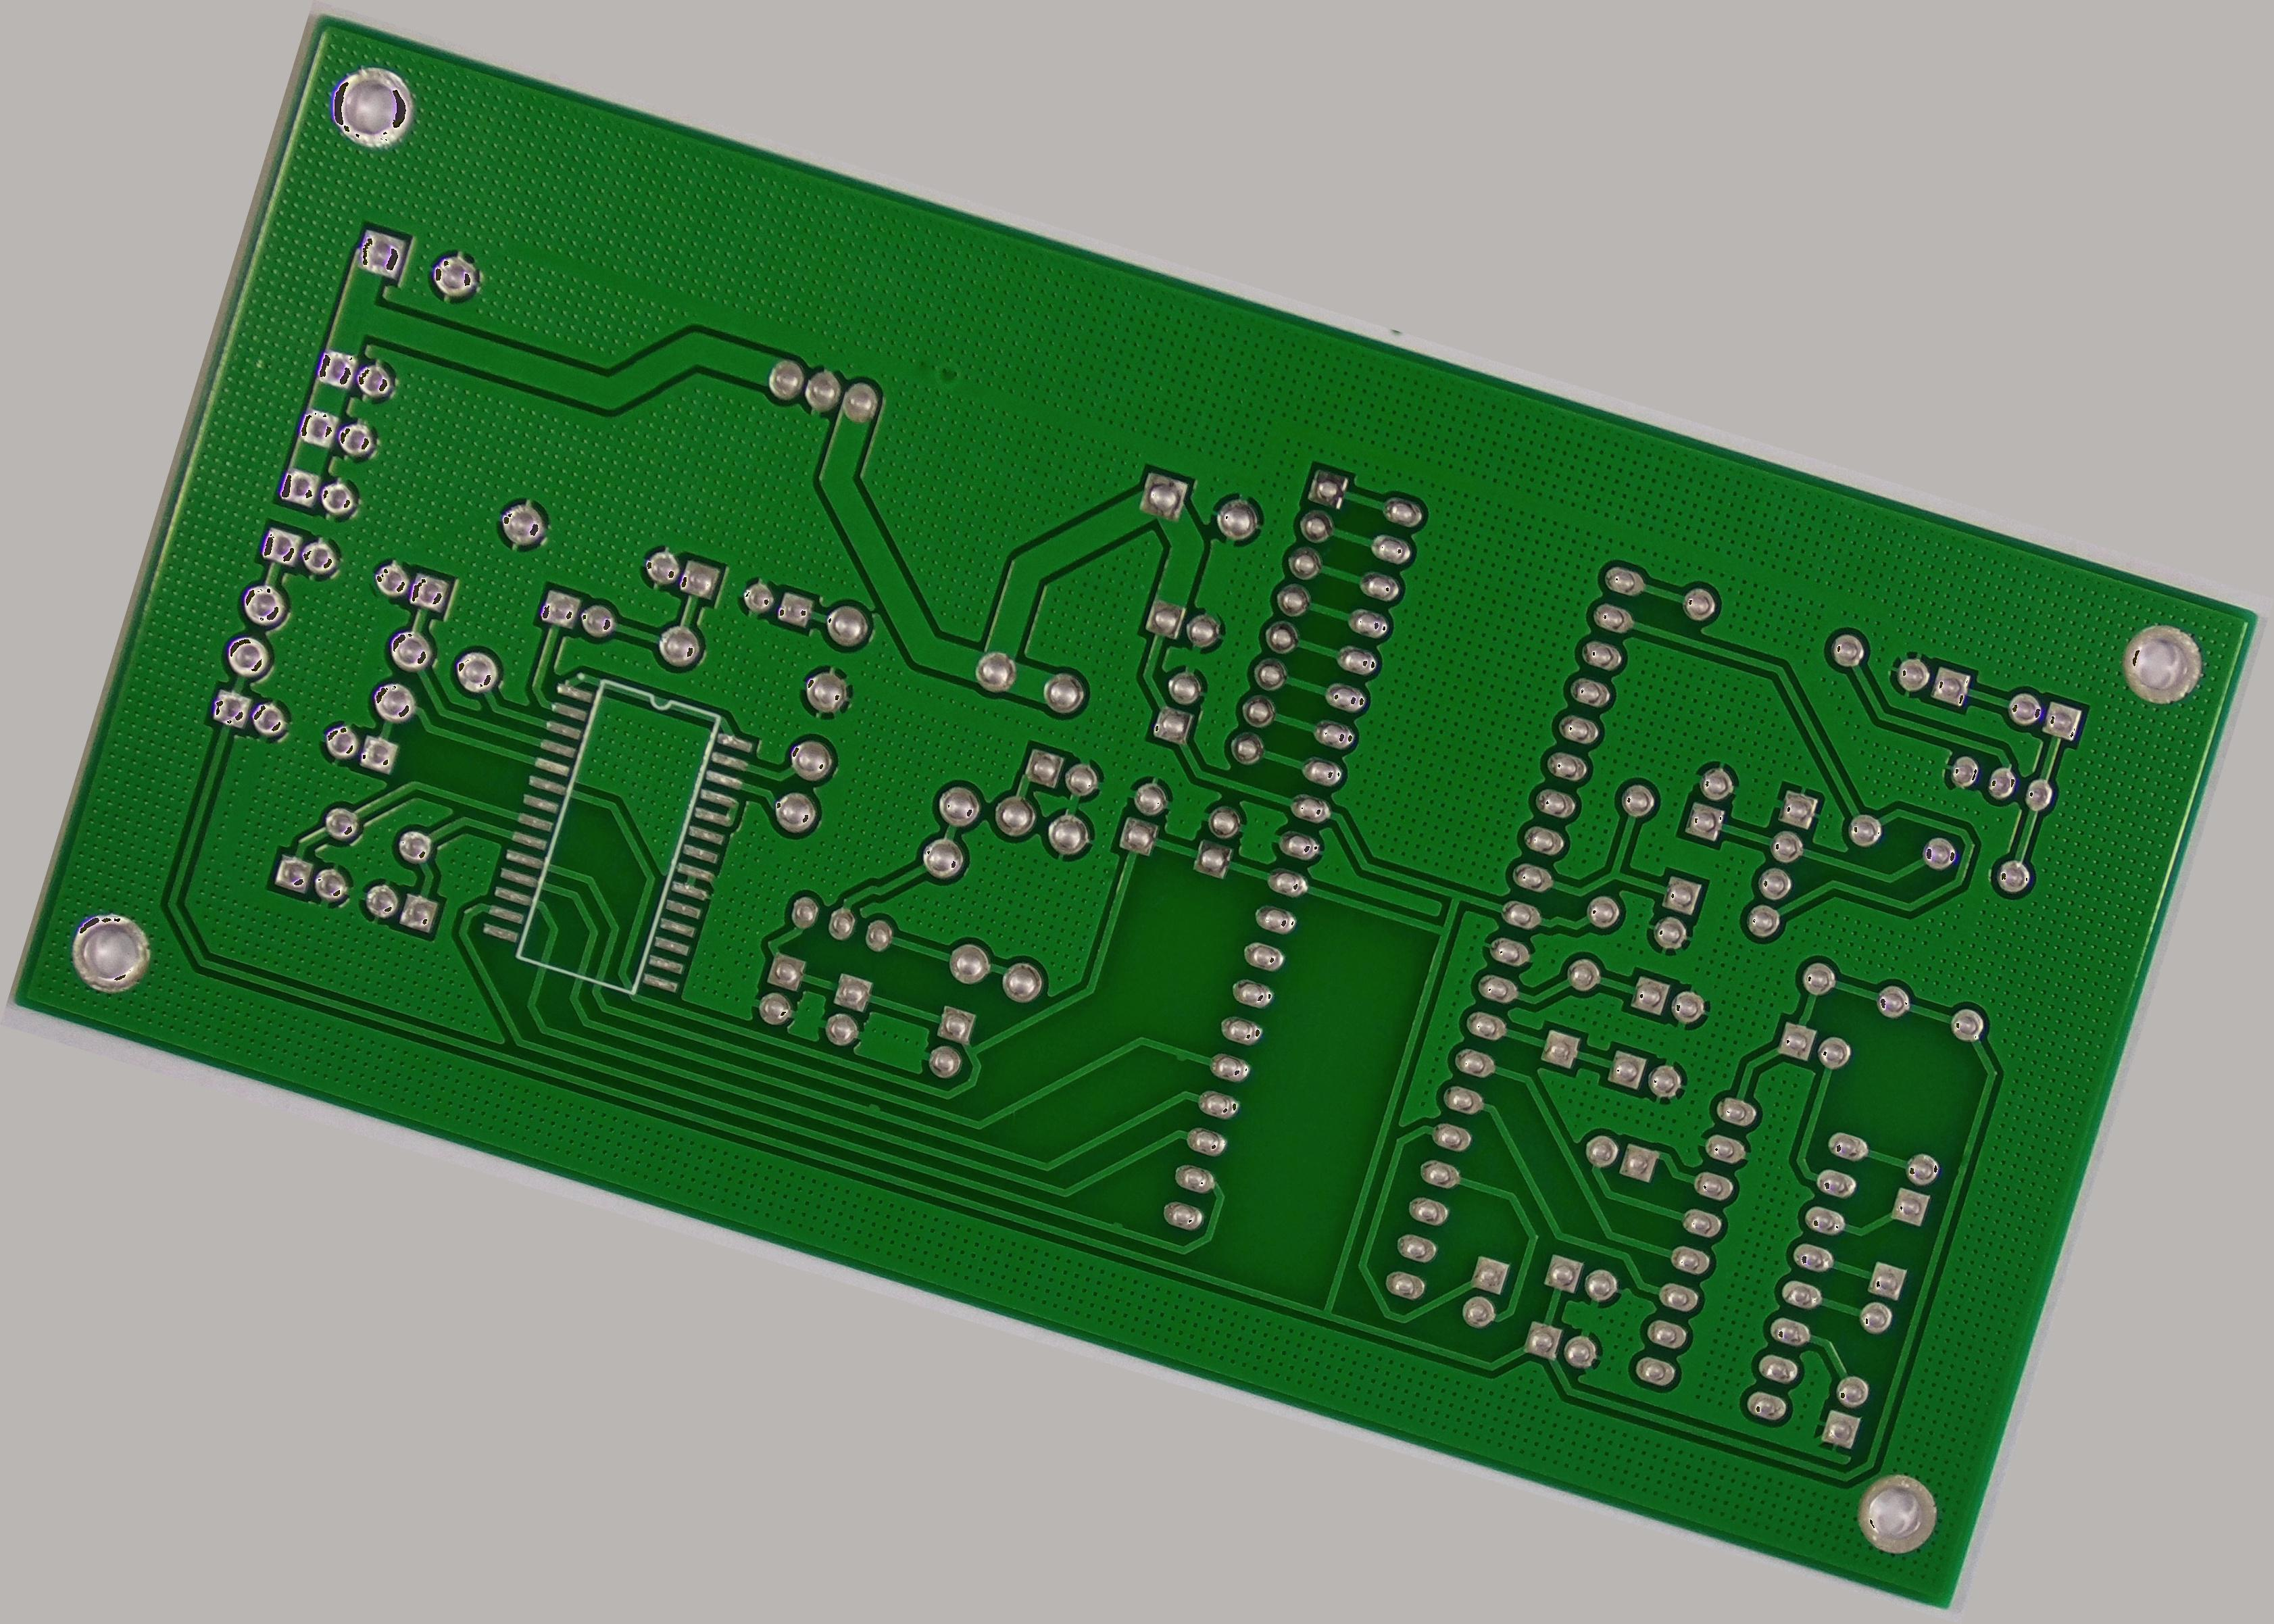spur: (858, 1093, 891, 1127), (1167, 1040, 1199, 1072), (1100, 1214, 1132, 1244)
